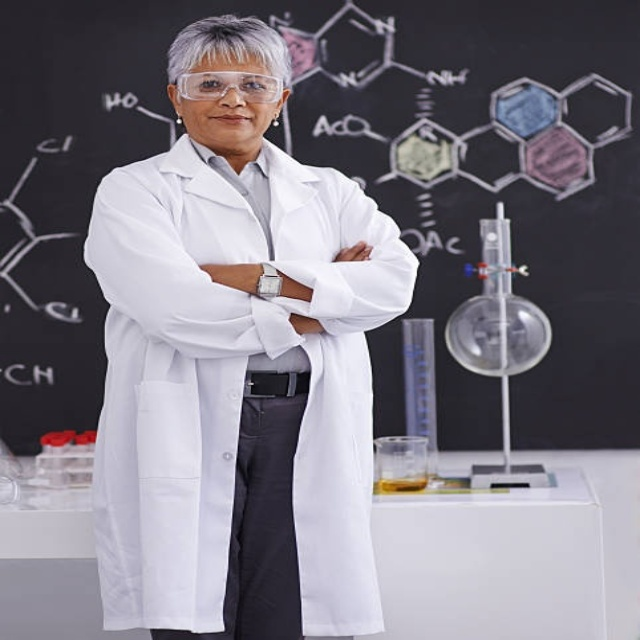Gafas: (174, 71, 285, 103)
Sin_mascara: (202, 107, 256, 137)
